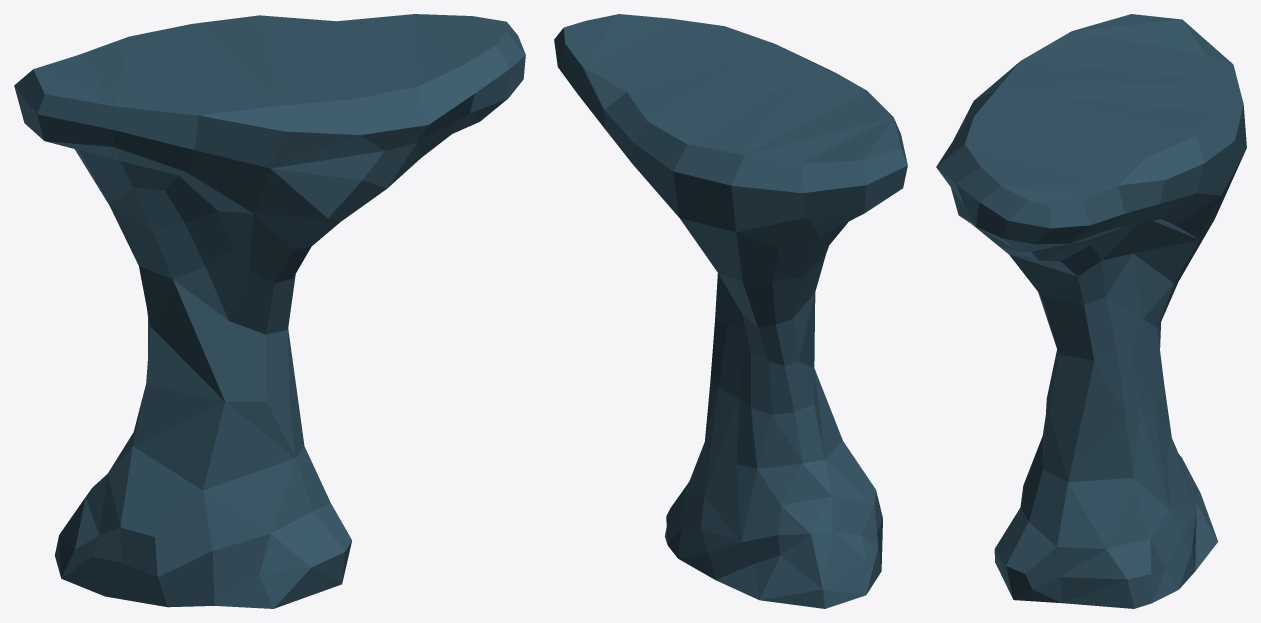
The model's file is Pillar-B14.fbx.
3 views of the same model, side by side, from view 1: azimuth 30°, elevation 25°; view 2: azimuth 150°, elevation 25°; view 3: azimuth 270°, elevation 25° (orthographic). The views are drawn at different scales.
Visible parts, largest first — view 1: Pillar-B14; view 2: Pillar-B14; view 3: Pillar-B14.
Part boxes in pixels (x1,y1,x2,y2): Pillar-B14: [14, 14, 525, 608]; Pillar-B14: [554, 14, 907, 608]; Pillar-B14: [936, 14, 1246, 608].
Bounding box in the file's own units: 306 × 198 × 339.
